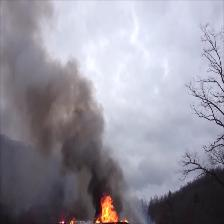fire: (98, 194, 119, 221)
smoke: (7, 1, 129, 196)
